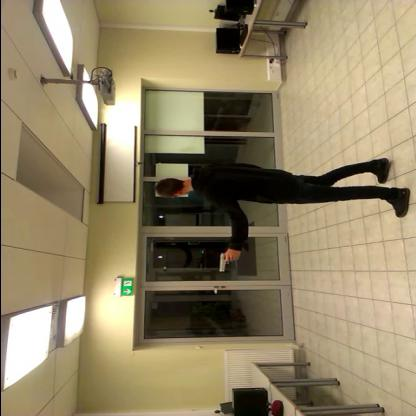Pistol: (210, 251, 244, 273)
